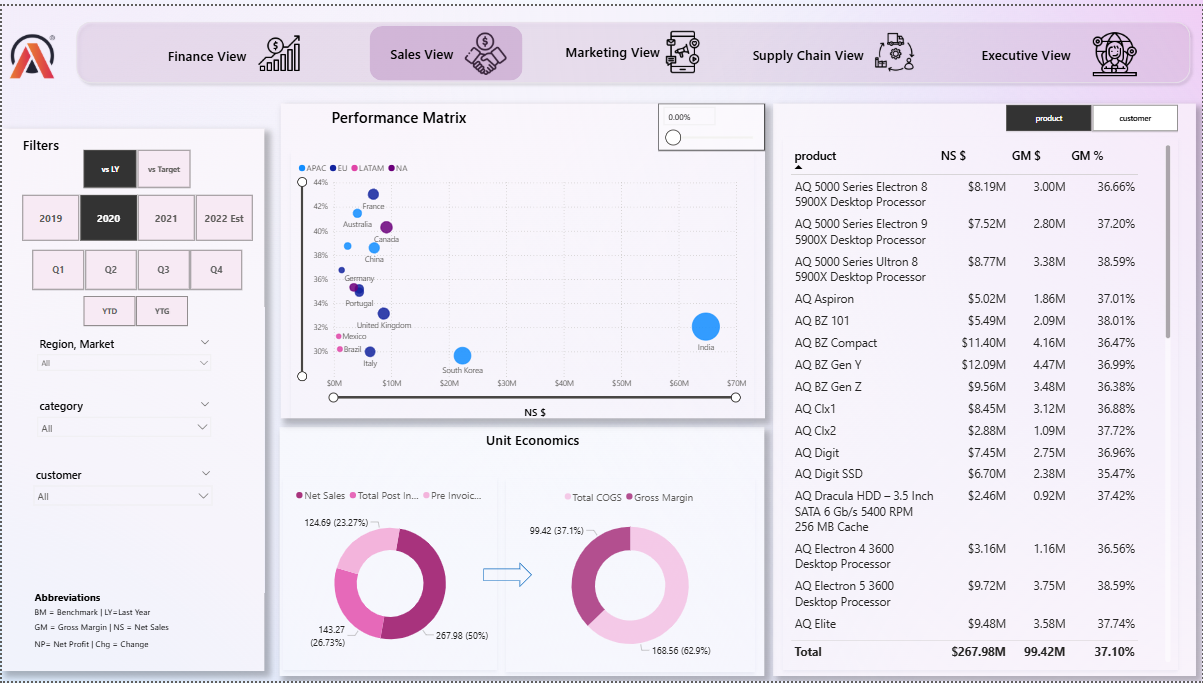

What the dashboard file says about the page in this screenshot:
{"tool":"powerbi","page":{"name":" Sales View","canvas":[1920,1080],"ordinal":2},"visuals":[{"type":"shape","box":[444,674,776,398],"z":0},{"type":"group","id":"g1","title":"Group 3","box":[52.5,956,265.7,74.3],"z":0,"group":"g2"},{"type":"shape","box":[52.8,956,264,24],"z":0,"group":"g1"},{"type":"shape","box":[446,156,774,504],"z":1000},{"type":"shape","box":[52.5,927.5,237.5,35],"z":1000,"group":"g2"},{"type":"shape","box":[52.5,982.3,264.3,22.9],"z":1000,"group":"g1"},{"type":"shape","box":[1234,156,676,916],"z":2000},{"type":"shape","box":[52.5,1007.4,265.7,22.9],"z":2000,"group":"g1"},{"type":"tableEx","fields":{"Values":["dim_customer.customer","Key Measures.NS $","Key Measures.GM $","Key Measures.GM %"]},"box":[1250,210,632,852],"z":3000},{"type":"donutChart","fields":{"Y":["Key Measures.P & L values"],"Category":["P & L Rows.Description"]},"box":[450,754,342,308],"z":4000},{"type":"donutChart","fields":{"Y":["Key Measures.P & L values"],"Category":["P & L Rows.Description"]},"box":[806,756,398,310],"z":5000},{"type":"shape","box":[770,890,78,40],"z":6000},{"type":"image","box":[12,38,74,84],"z":7000},{"type":"textbox","box":[456,156,358,46],"z":8000},{"type":"textbox","box":[674,674,350,54],"z":9000},{"type":"textbox","box":[589.2,421.4,238.8,30],"z":10000},{"type":"scatterChart","fields":{"X":["Key Measures.NS $"],"Size":["Key Measures.NS $"],"Y":["Key Measures.GM %"],"Category":["dim_customer.market","dim_customer.customer"],"Series":["dim_market.region"]},"box":[464,208,740,434],"z":11000},{"type":"slicer","fields":{"Values":["Target Gap Tolerance.Target Gap Tolerance"]},"box":[1049.9,156.4,170.8,75.5],"z":13000},{"type":"shape","box":[110,16,1800,116],"z":14000},{"type":"image","box":[740,36,68,80],"z":15000},{"type":"image","box":[1053.9,35.6,70,75],"z":16000},{"type":"image","box":[1396.1,33.3,65,80],"z":17000},{"type":"image","box":[1743.9,31.2,72.5,90],"z":18000},{"type":"shape","box":[587.5,32.5,245,87.5],"z":19000},{"type":"textbox","box":[260.8,60.3,160,45],"z":20000},{"type":"textbox","box":[615.3,56.1,147.5,50],"z":21000},{"type":"textbox","box":[895.1,53.1,202.5,47.5],"z":22000},{"type":"textbox","box":[1561.4,58.7,182.5,40],"z":23000},{"type":"textbox","box":[1196.1,58.3,210,40],"z":24000},{"type":"image","box":[408.3,37.8,70,75],"z":25000},{"type":"shape","box":[0,196,420,868],"z":26000},{"type":"slicer","fields":{"Values":["fiscal_year.fy_desc"]},"box":[12.5,300,407.5,77.5],"z":27000},{"type":"slicer","fields":{"Values":["dim_date.quarters"]},"box":[28.8,387.5,375,67.5],"z":28000},{"type":"slicer","fields":{"Values":["dim_date.ytd_ytg"]},"box":[110,461.2,206.2,51.2],"z":29000},{"type":"slicer","fields":{"Values":["dim_market.region","dim_customer.market"]},"box":[52.5,527.5,287.5,80],"z":30000},{"type":"slicer","fields":{"Values":["dim_product.category"]},"box":[52.5,627.5,287.5,65],"z":31000},{"type":"slicer","fields":{"Values":["Set BM.Benchmarks"]},"box":[110,228,210,64],"z":32000},{"type":"slicer","fields":{"Values":["dim_customer.customer"]},"box":[45,737.5,295,77.5],"z":33000},{"type":"group","id":"g2","title":"Group 5","box":[52.5,927.5,265.7,102.8],"z":34000},{"type":"textbox","box":[1360.9,156.4,382.9,53.9],"z":35000},{"type":"textbox","box":[28,202,100,50],"z":36000}]}

Visuals, with their boxes in screenshot pixels (x1, y1, x2, y2), scaled from the page's 1920x1080 canvas onto the 1203x683 screenshot:
shape: BBox(278, 426, 764, 678)
"Group 3" group: BBox(33, 605, 199, 652)
shape: BBox(33, 605, 198, 620)
shape: BBox(279, 99, 764, 417)
shape: BBox(33, 587, 182, 609)
shape: BBox(33, 621, 198, 636)
shape: BBox(773, 99, 1197, 678)
shape: BBox(33, 637, 199, 652)
tableEx - dim_customer.customer x Key Measures.NS $: BBox(783, 133, 1179, 672)
donutChart - Key Measures.P & L values x P & L Rows.Description: BBox(282, 477, 496, 672)
donutChart - Key Measures.P & L values x P & L Rows.Description: BBox(505, 478, 754, 674)
shape: BBox(482, 563, 531, 588)
image: BBox(8, 24, 54, 77)
textbox: BBox(286, 99, 510, 128)
textbox: BBox(422, 426, 642, 460)
textbox: BBox(369, 266, 519, 285)
scatterChart - Key Measures.NS $ x Key Measures.NS $: BBox(291, 132, 754, 406)
slicer - Target Gap Tolerance.Target Gap Tolerance: BBox(658, 99, 765, 147)
shape: BBox(69, 10, 1197, 83)
image: BBox(464, 23, 506, 73)
image: BBox(660, 23, 704, 70)
image: BBox(875, 21, 915, 72)
image: BBox(1093, 20, 1138, 77)
shape: BBox(368, 21, 522, 76)
textbox: BBox(163, 38, 264, 67)
textbox: BBox(386, 35, 478, 67)
textbox: BBox(561, 34, 688, 64)
textbox: BBox(978, 37, 1093, 62)
textbox: BBox(749, 37, 881, 62)
image: BBox(256, 24, 300, 71)
shape: BBox(0, 124, 263, 673)
slicer - fiscal_year.fy_desc: BBox(8, 190, 263, 239)
slicer - dim_date.quarters: BBox(18, 245, 253, 288)
slicer - dim_date.ytd_ytg: BBox(69, 292, 198, 324)
slicer - dim_market.region x dim_customer.market: BBox(33, 334, 213, 384)
slicer - dim_product.category: BBox(33, 397, 213, 438)
slicer - Set BM.Benchmarks: BBox(69, 144, 200, 185)
slicer - dim_customer.customer: BBox(28, 466, 213, 515)
"Group 5" group: BBox(33, 587, 199, 652)
textbox: BBox(853, 99, 1093, 133)
textbox: BBox(18, 128, 80, 159)
